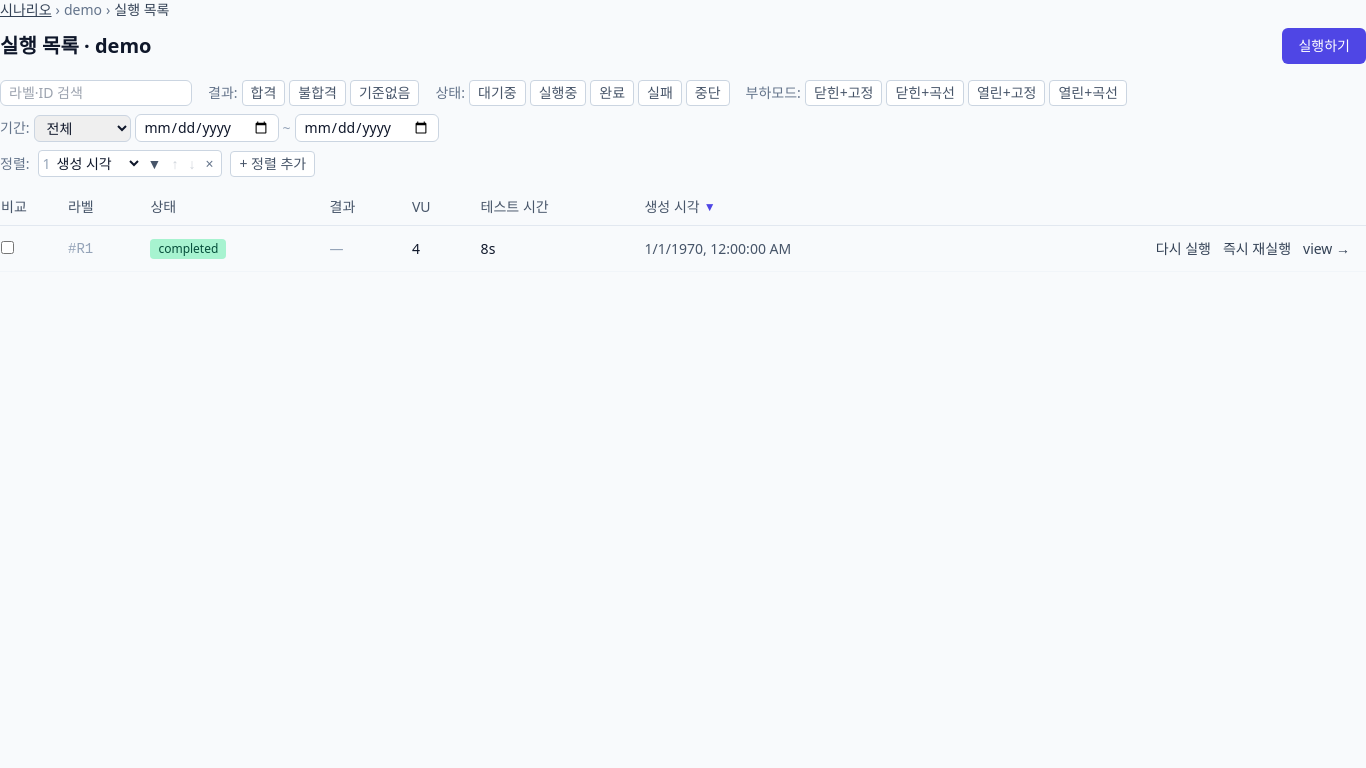
Test case: ScenarioRunsPage — retry (A1) › does not show the drift warning when the run snapshot matches the live scenario
Click the button "다시 실행" at (1183, 248), box [1156,238,1211,258]
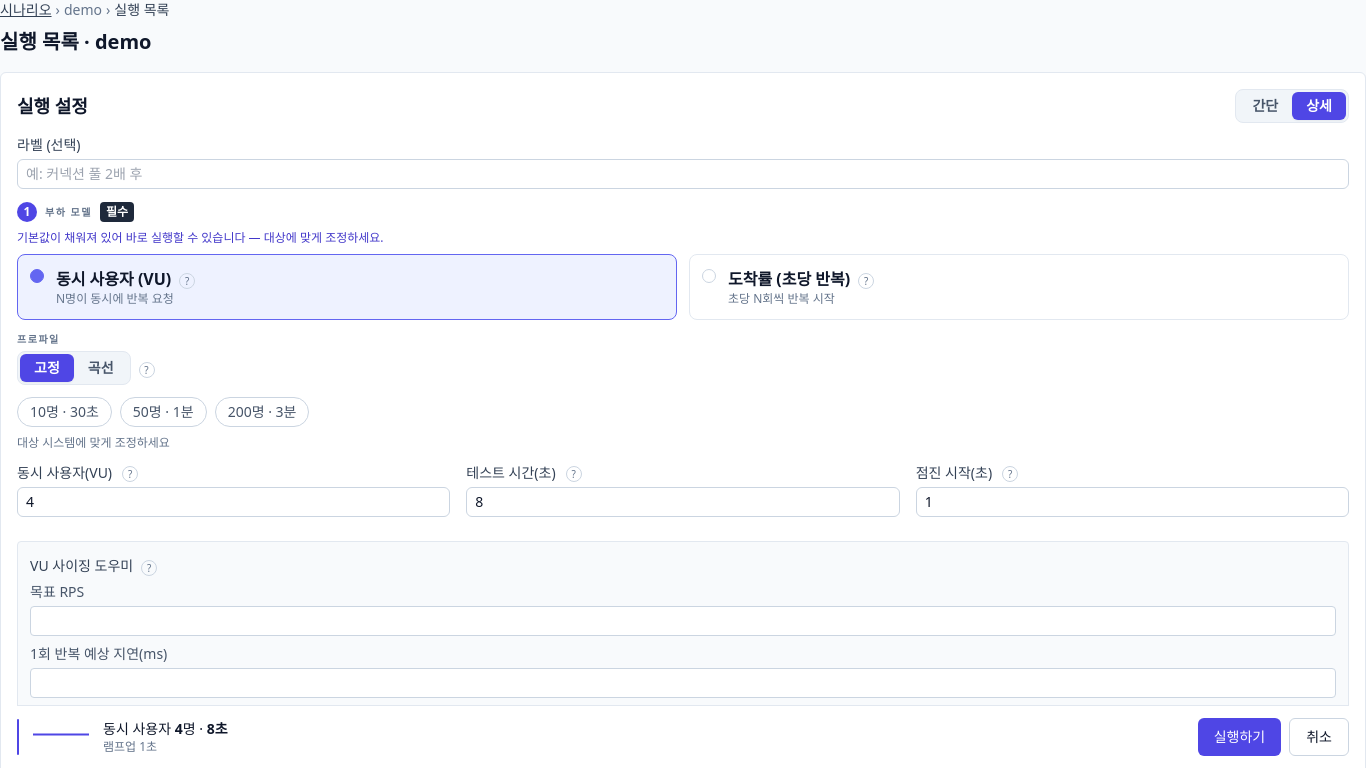
Now the number field labelled "동시 사용자(VU)" holds "4", box [17,487,450,517]
